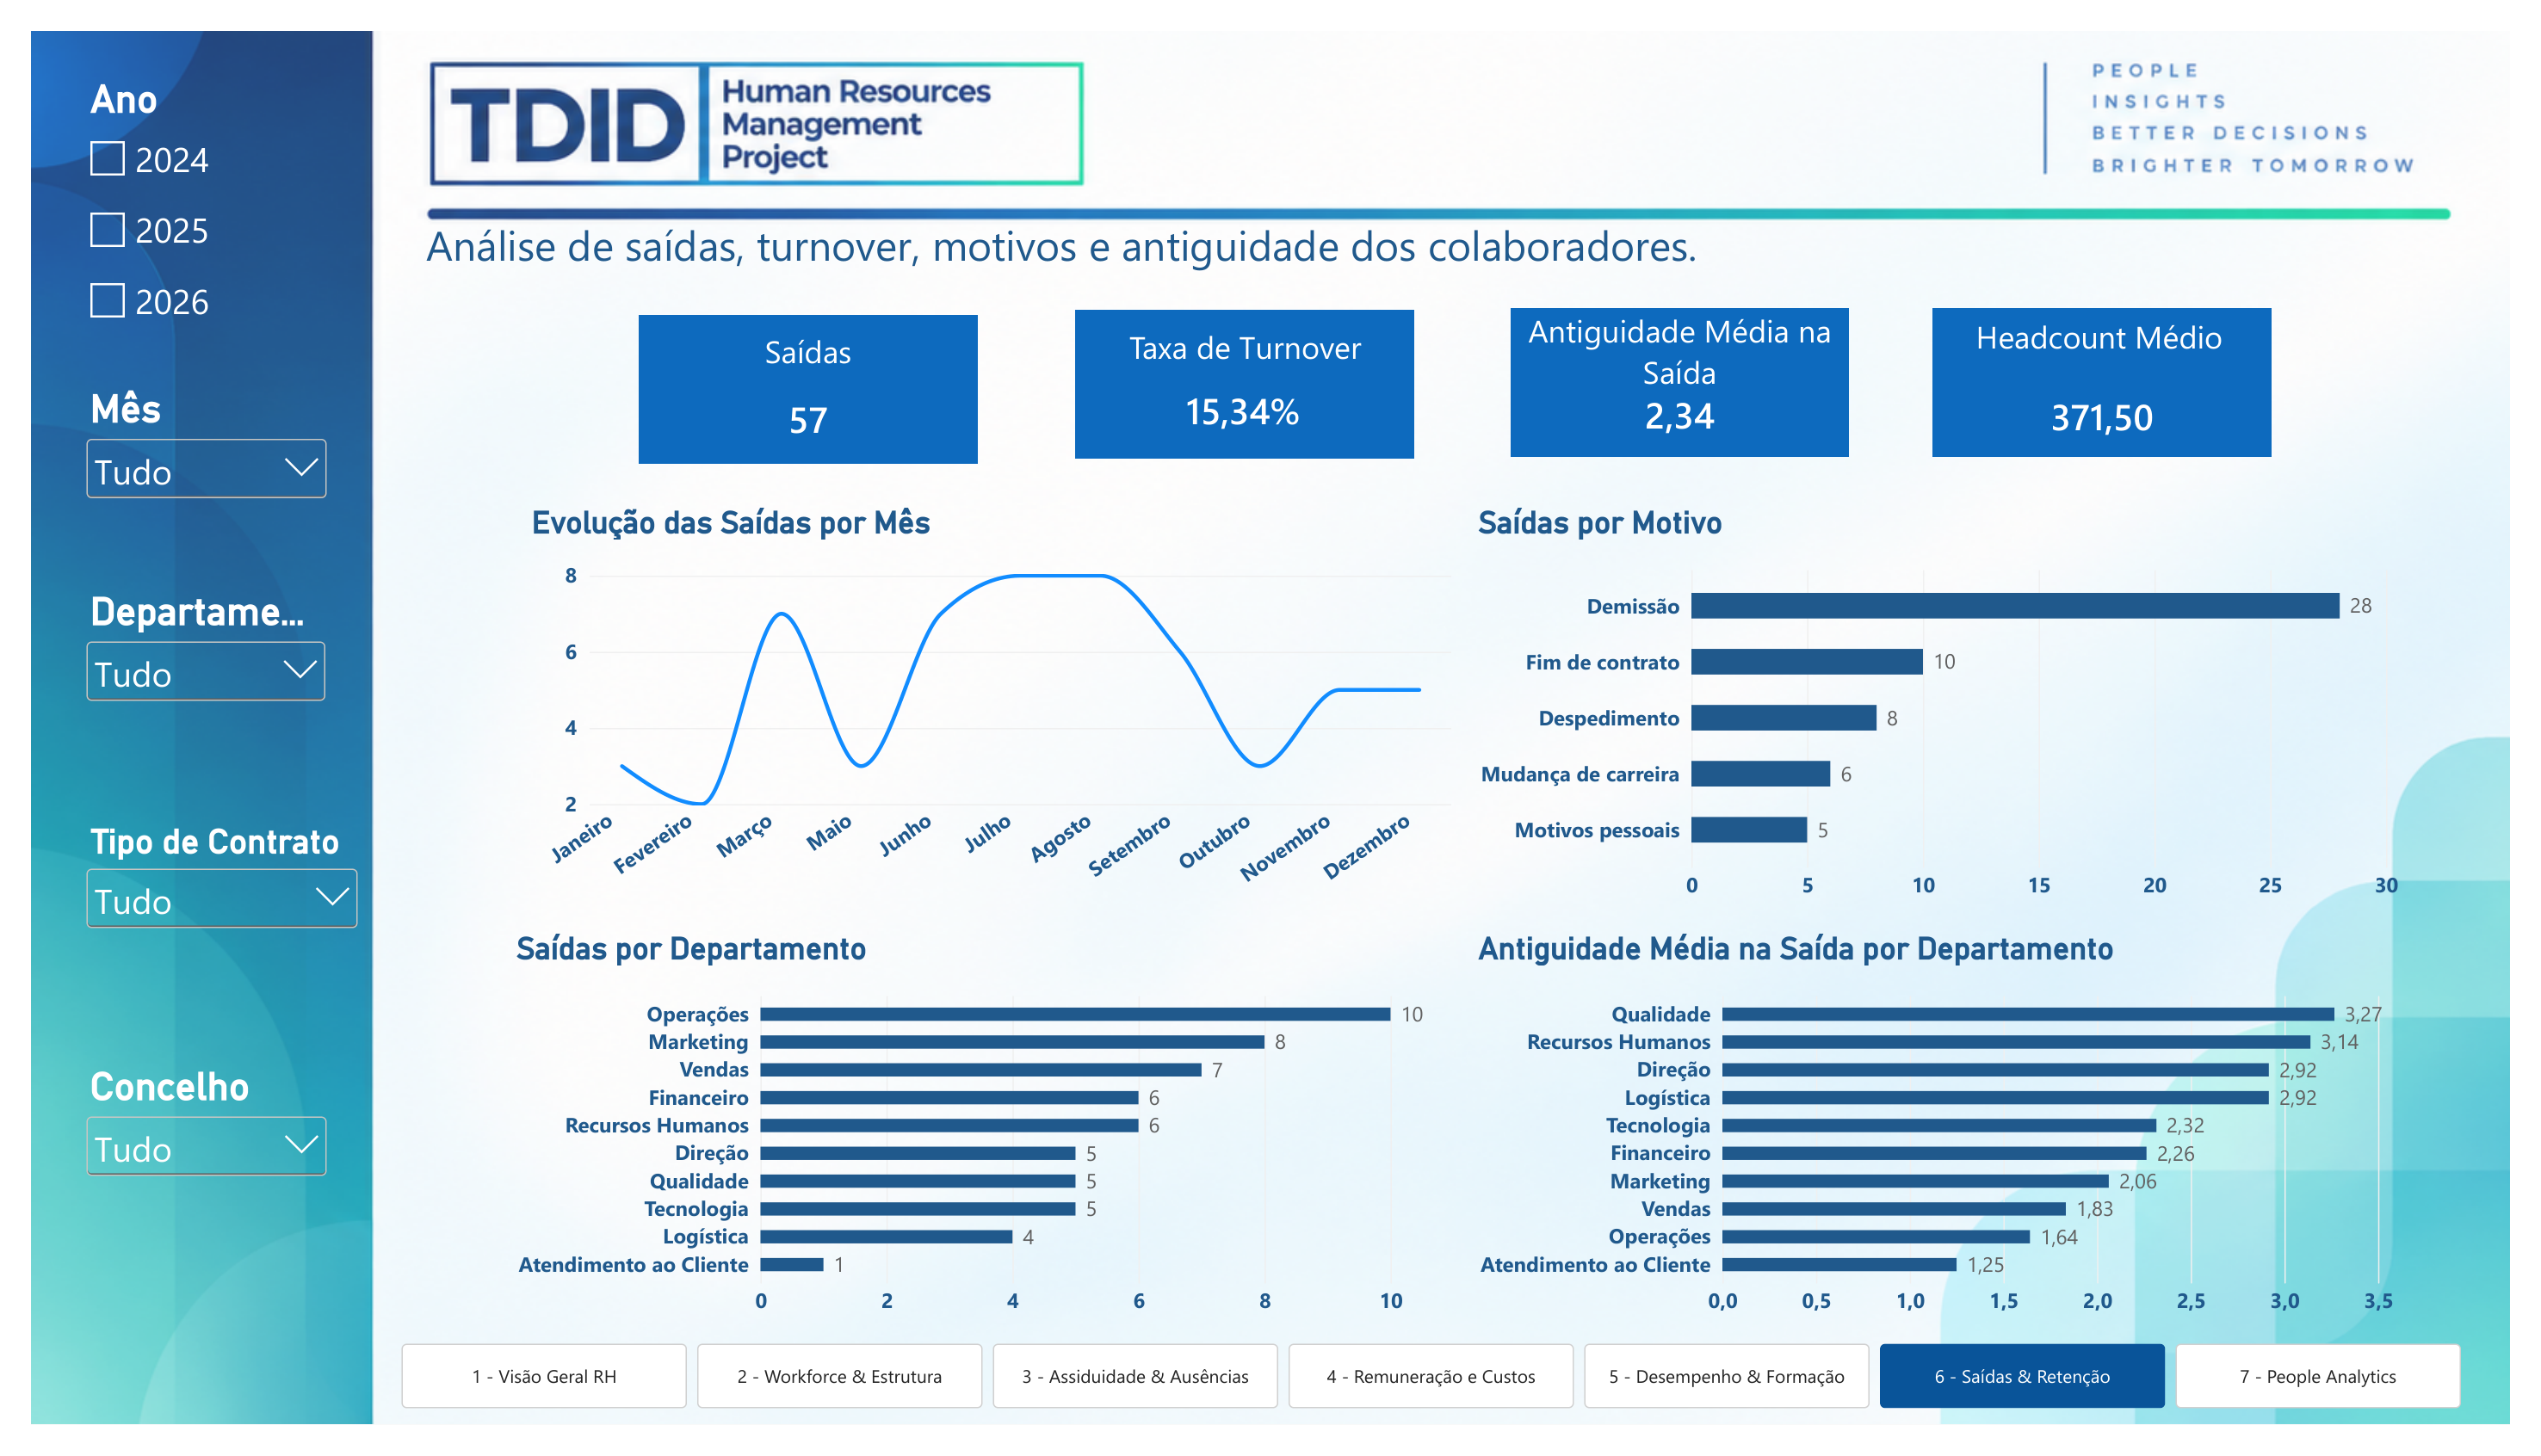

What the dashboard file says about the page in this screenshot:
{"tool":"powerbi","page":{"name":"6 - Saídas & Retenção","canvas":[1920,1080],"ordinal":6},"visuals":[{"type":"slicer","fields":{"Values":["dCalendario.Ano"]},"box":[38.3,35,195.6,217.1],"z":0},{"type":"slicer","fields":{"Values":["dCalendario.Mes_Nome"]},"box":[38.3,275,195.6,217.1],"z":1000},{"type":"slicer","fields":{"Values":["dDepartamento.Departamento"]},"box":[38.3,431.7,195,108.3],"z":2000},{"type":"slicer","fields":{"Values":["dTipoContrato.TipoContrato"]},"box":[38.3,611.7,220,216.7],"z":3000},{"type":"slicer","fields":{"Values":["dLocalizacao.Concelho"]},"box":[38.3,800,195.6,217.1],"z":4000},{"type":"shape","title":"Colaboradores Ativos","box":[471.2,219.7,261.7,115],"z":5000},{"type":"shape","title":"Colaboradores Ativos","box":[1146.2,214.7,261.7,115],"z":6000},{"type":"shape","title":"Colaboradores Ativos","box":[808.9,216.4,261.7,115],"z":7000},{"type":"shape","title":"Colaboradores Ativos","box":[1472.9,214.7,261.7,115],"z":8000},{"type":"card","fields":{"Values":["_Medidas_RH.Saídas"]},"box":[471.2,226.4,261.7,151.7],"z":9000},{"type":"card","fields":{"Values":["_Medidas_RH.Taxa de Turnover"]},"box":[807.9,224.7,261.7,141.7],"z":10000},{"type":"card","fields":{"Values":["_Medidas_RH.Antiguidade Média na Saída"]},"box":[1146.2,223,261.7,151.7],"z":11000},{"type":"card","fields":{"Values":["_Medidas_RH.Headcount_Medio_Periodo"]},"box":[1472.9,224.7,261.7,151.7],"z":12000},{"type":"textbox","box":[471.2,231.4,261.7,43.3],"z":13000},{"type":"textbox","box":[809.6,228,261.7,43.3],"z":14000},{"type":"textbox","box":[1146.2,214.7,261.7,73.3],"z":15000},{"type":"textbox","box":[1471.2,219.7,261.7,58.3],"z":16000},{"type":"lineChart","title":"Evolução das Saídas por Mês","fields":{"Category":["dCalendario.Mes_Nome"],"Y":["_Medidas_RH.Saídas"]},"box":[371.7,353.4,744.7,339.4],"z":17000},{"type":"clusteredBarChart","title":"Saídas por Motivo","fields":{"Category":["dMotivoSaida.MotivoSaida"],"Y":["_Medidas_RH.Saídas"]},"box":[1105.2,353.4,744.7,339.4],"z":18000},{"type":"clusteredBarChart","title":"Saídas por Departamento","fields":{"Category":["dDepartamento.Departamento"],"Y":["_Medidas_RH.Saídas"]},"box":[360.4,683,744.7,332.4],"z":19000},{"type":"clusteredBarChart","title":"Antiguidade Média na Saída por Departamento","fields":{"Category":["dDepartamento.Departamento"],"Y":["_Medidas_RH.Antiguidade Média na Saída"]},"box":[1105.2,683,744.7,332.4],"z":20000},{"type":"pageNavigator","box":[286.7,1016.7,1600,50],"z":20001},{"type":"textbox","box":[305.7,143.1,1561,120.6],"z":20002}]}

Visuals, with their boxes in screenshot pixels (x1, y1, x2, y2), scaled from the page's 1920x1080 canvas onto the 2541x1456 screenshot:
slicer - dCalendario.Ano: rect(51, 47, 310, 340)
slicer - dCalendario.Mes_Nome: rect(51, 371, 310, 663)
slicer - dDepartamento.Departamento: rect(51, 582, 309, 728)
slicer - dTipoContrato.TipoContrato: rect(51, 824, 342, 1117)
slicer - dLocalizacao.Concelho: rect(51, 1078, 310, 1371)
"Colaboradores Ativos" shape: rect(623, 296, 970, 451)
"Colaboradores Ativos" shape: rect(1517, 289, 1864, 445)
"Colaboradores Ativos" shape: rect(1071, 292, 1417, 447)
"Colaboradores Ativos" shape: rect(1950, 289, 2296, 445)
card - _Medidas_RH.Saídas: rect(623, 305, 970, 509)
card - _Medidas_RH.Taxa de Turnover: rect(1069, 303, 1416, 494)
card - _Medidas_RH.Antiguidade Média na Saída: rect(1517, 300, 1864, 505)
card - _Medidas_RH.Headcount_Medio_Periodo: rect(1950, 303, 2296, 508)
textbox: rect(623, 312, 970, 370)
textbox: rect(1072, 307, 1418, 366)
textbox: rect(1517, 289, 1864, 388)
textbox: rect(1947, 296, 2293, 375)
"Evolução das Saídas por Mês" lineChart: rect(492, 477, 1477, 934)
"Saídas por Motivo" clusteredBarChart: rect(1462, 477, 2448, 934)
"Saídas por Departamento" clusteredBarChart: rect(477, 921, 1462, 1369)
"Antiguidade Média na Saída por Departamento" clusteredBarChart: rect(1462, 921, 2448, 1369)
pageNavigator: rect(380, 1371, 2497, 1438)
textbox: rect(405, 193, 2470, 355)
